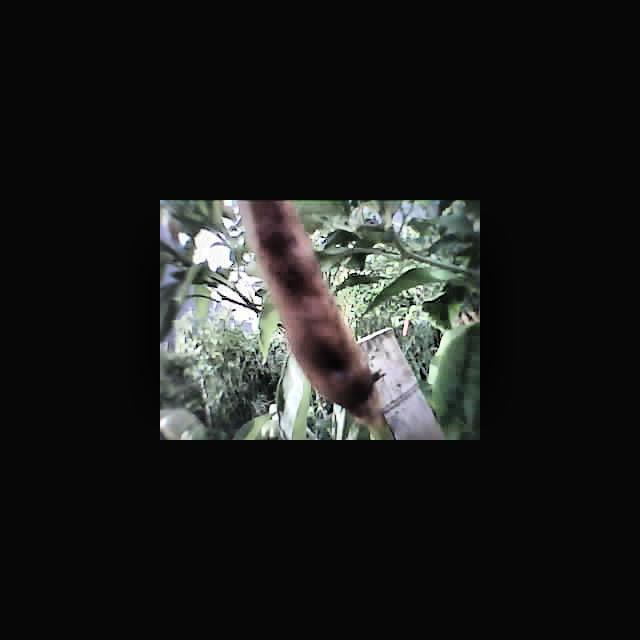Cabai: (241, 200, 381, 409)
